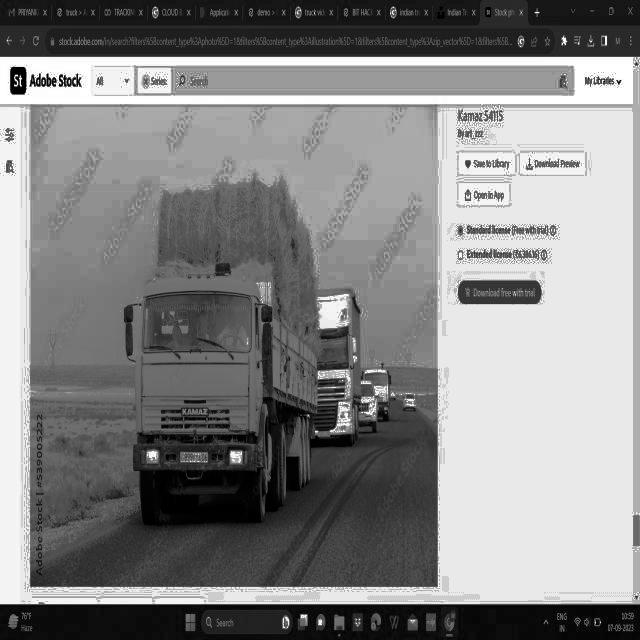HCV: (114, 132, 326, 546)
